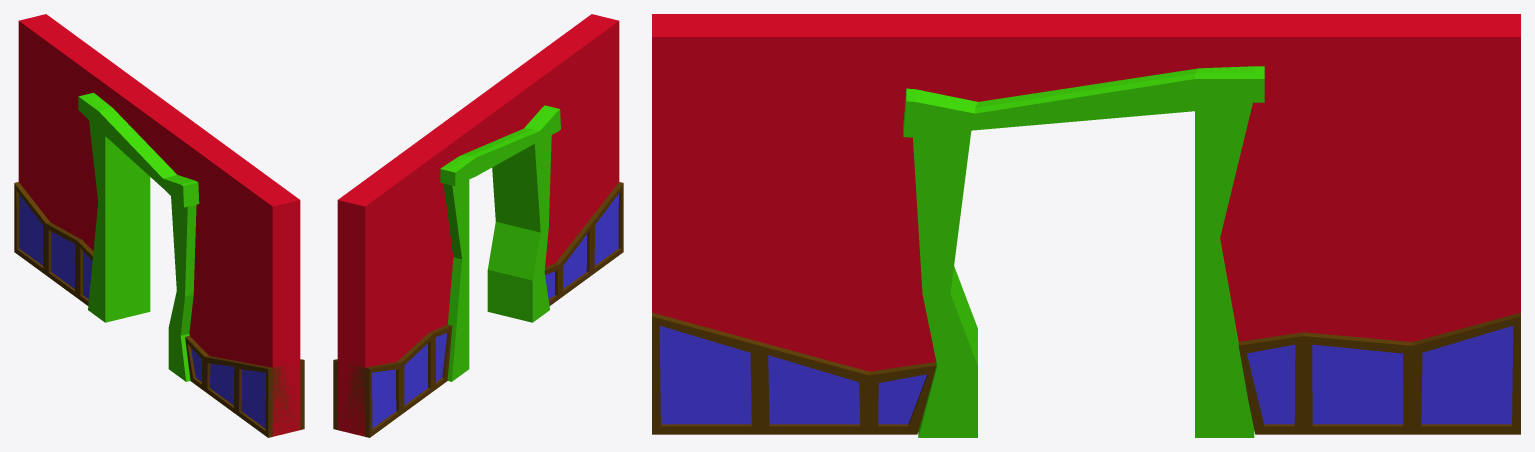
Rendered from SM_DoorWall_Test.fbx.
The picture shows the model from 3 angles, left to right: view 1: azimuth 30°, elevation 25°; view 2: azimuth 150°, elevation 25°; view 3: azimuth 270°, elevation 25°; orthographic projection. The views are drawn at different scales.
Visible parts, largest first — view 1: Cube.001; view 2: Cube.001; view 3: Cube.001.
Part boxes in pixels (x1,y1,x2,y2): Cube.001: [14, 14, 304, 437]; Cube.001: [333, 14, 623, 437]; Cube.001: [652, 14, 1520, 437].
Size of the model in its own units: 106 by 400 by 800.
